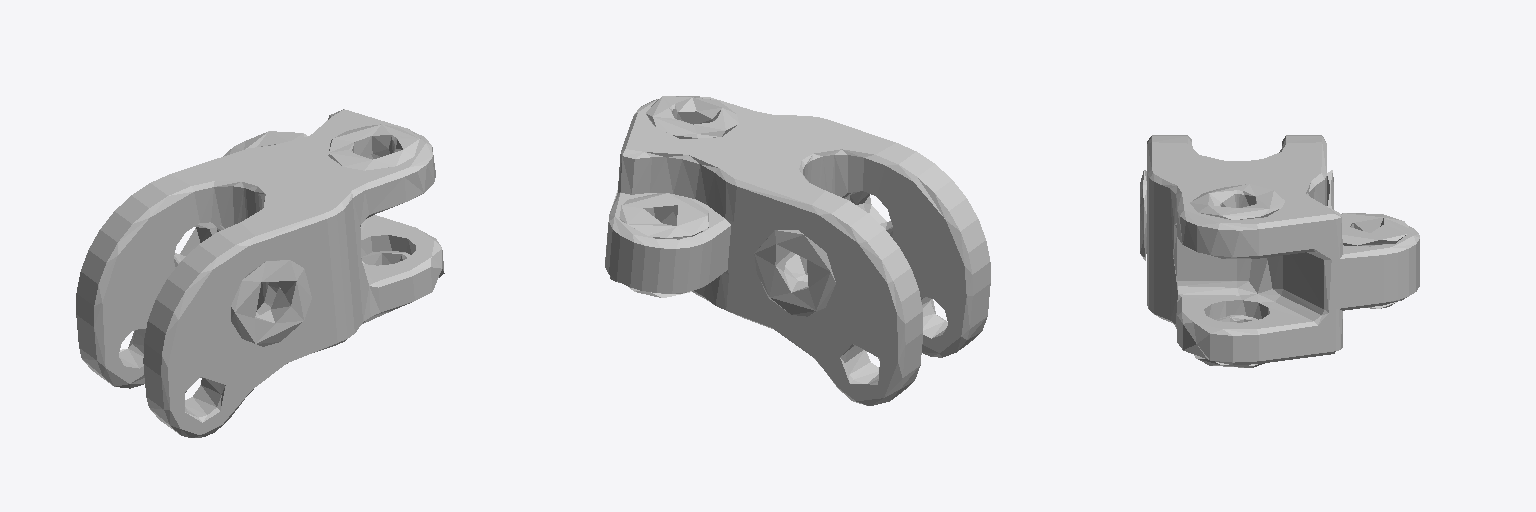
File: R_thumb_proximal_base.obj
The picture shows the model from 3 angles: view 1: azimuth 30°, elevation 25°; view 2: azimuth 150°, elevation 25°; view 3: azimuth 270°, elevation 25°; orthographic projection.
Parts seen in each view (by area): view 1: R_thumb_proximal_base; view 2: R_thumb_proximal_base; view 3: R_thumb_proximal_base.
Part boxes in pixels (x1,y1,x2,y2): R_thumb_proximal_base: (76, 109, 444, 437); R_thumb_proximal_base: (605, 96, 990, 405); R_thumb_proximal_base: (1140, 135, 1419, 367).
Bounding box in the file's own units: 0.0245 × 0.0157 × 0.0187.